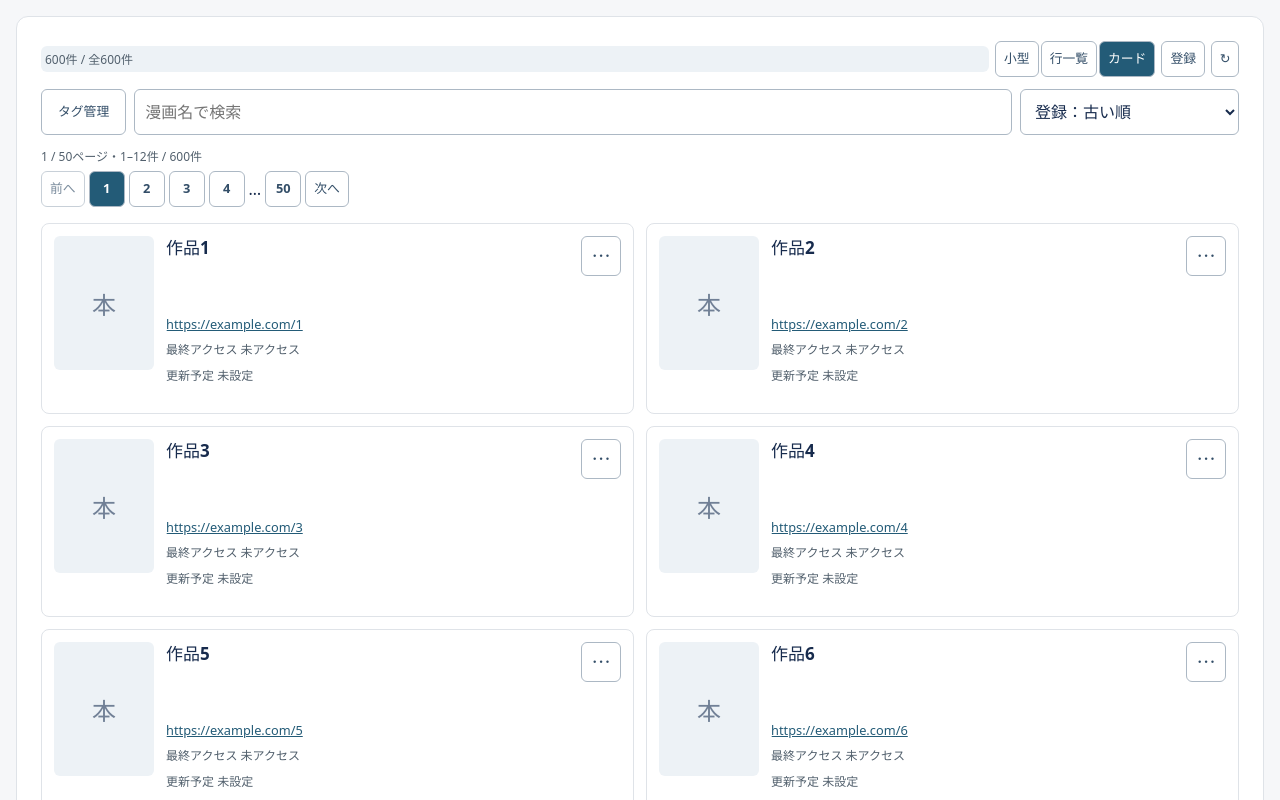
Scenario: 多数ページは番号を省略し、0件では操作を出さない
Expected: the heading "作品1" is shown, [166,236,210,259]
Expected: the button named "1ページ" is enabled, [89,171,125,207]
Click the button "50" at (283, 189), box [265,171,301,207]
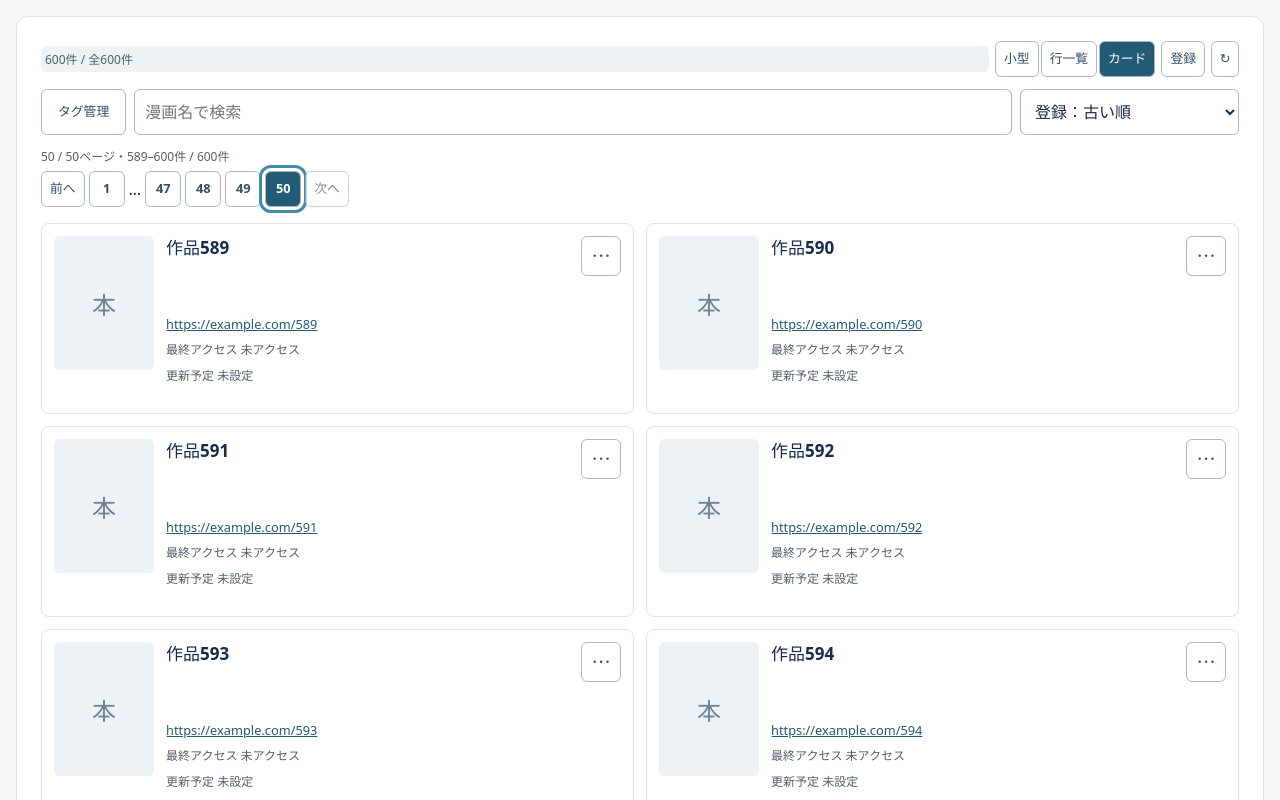
Type "存在しない" into the search field at (573, 112), box [134,89,1012,135]
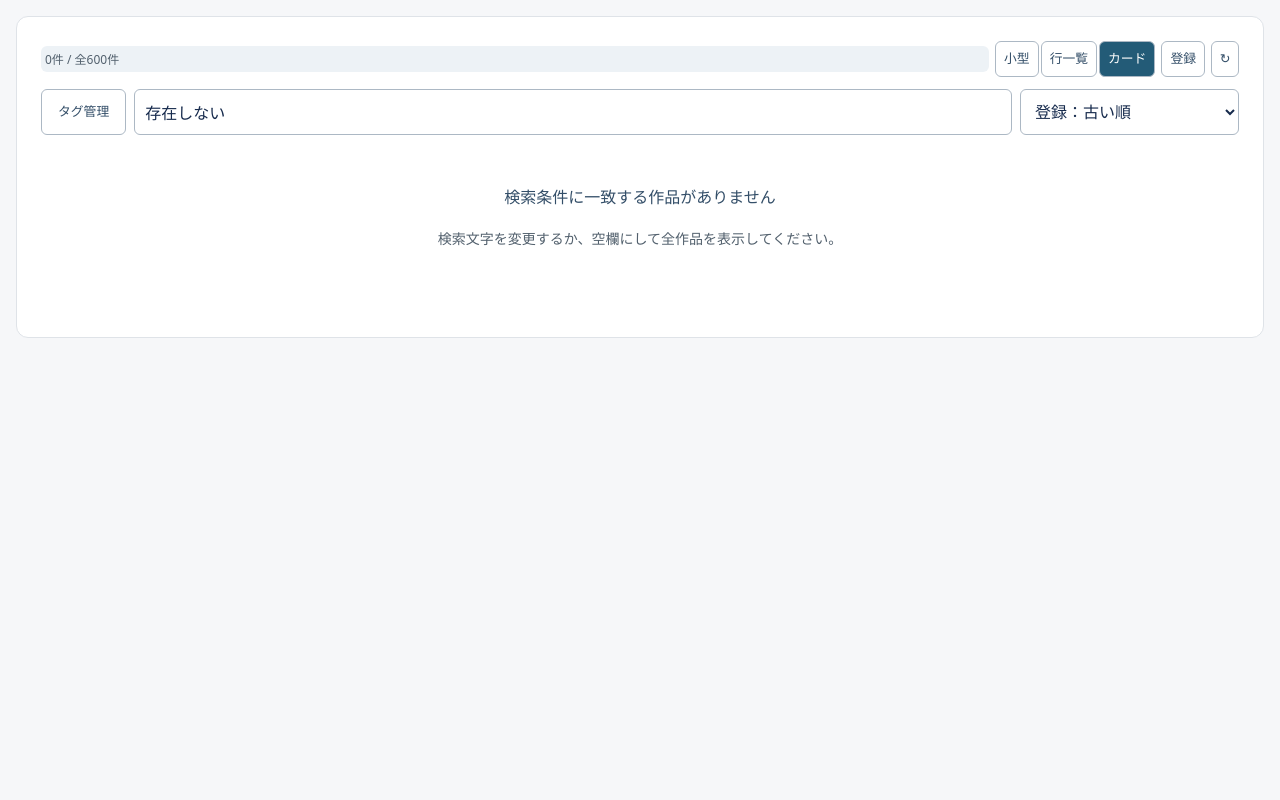
Expected: the navigation bar is gone
Expected: the heading "検索条件に一致する作品がありません" is shown, [504,186,776,208]
